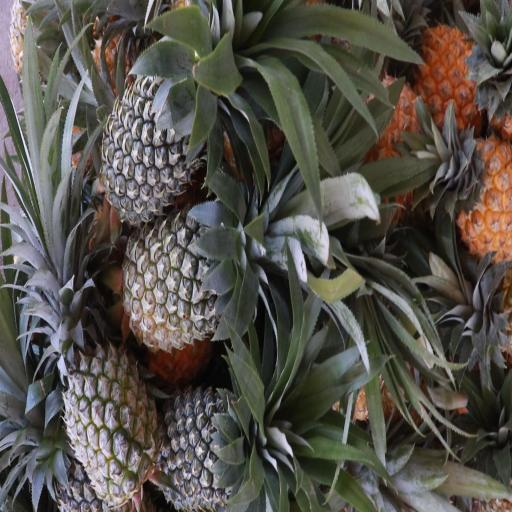------------------------------: (126, 213, 248, 345), (66, 342, 155, 494)
Pineapple - v8 v1: (422, 18, 504, 129), (444, 132, 512, 258)
